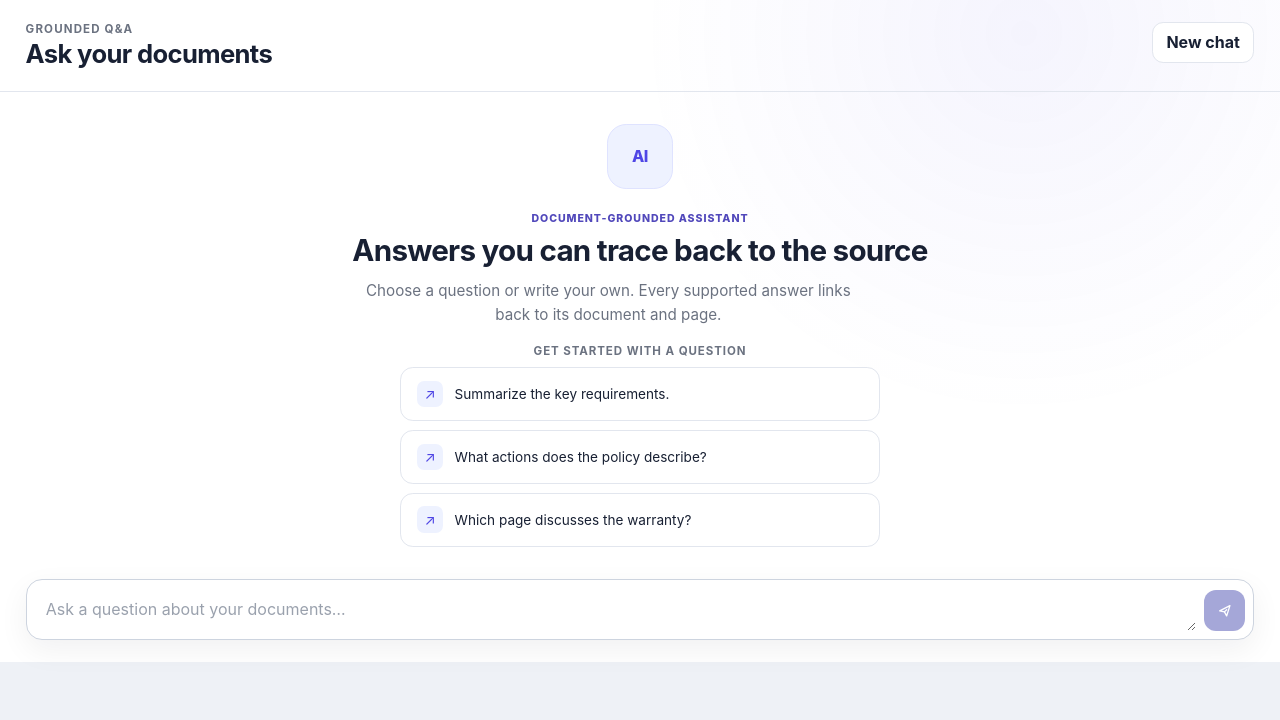
ChatPanel › shows a distinct offline error with a retry path
Type "Can you answer this?" into the text box labelled "Ask a question about your documents" at (615, 610), box [35, 588, 1196, 632]
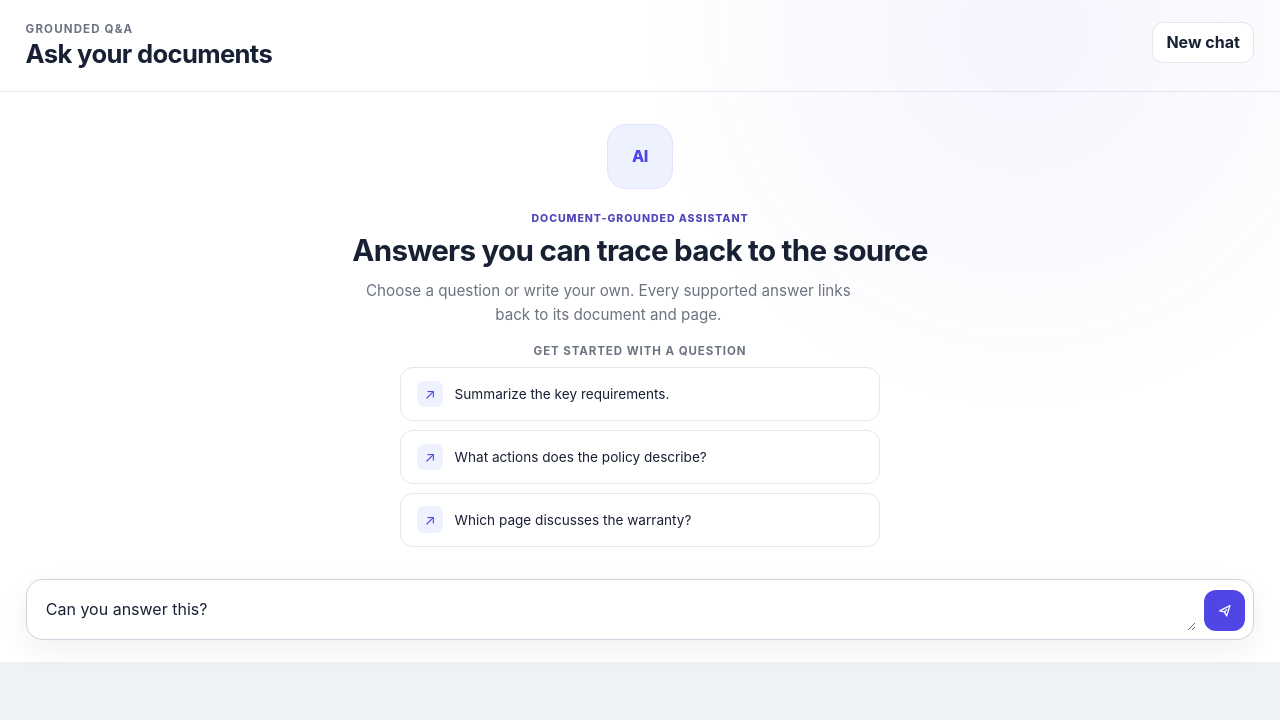
Click the button named "Send question" at (1225, 611), box [1204, 590, 1245, 632]
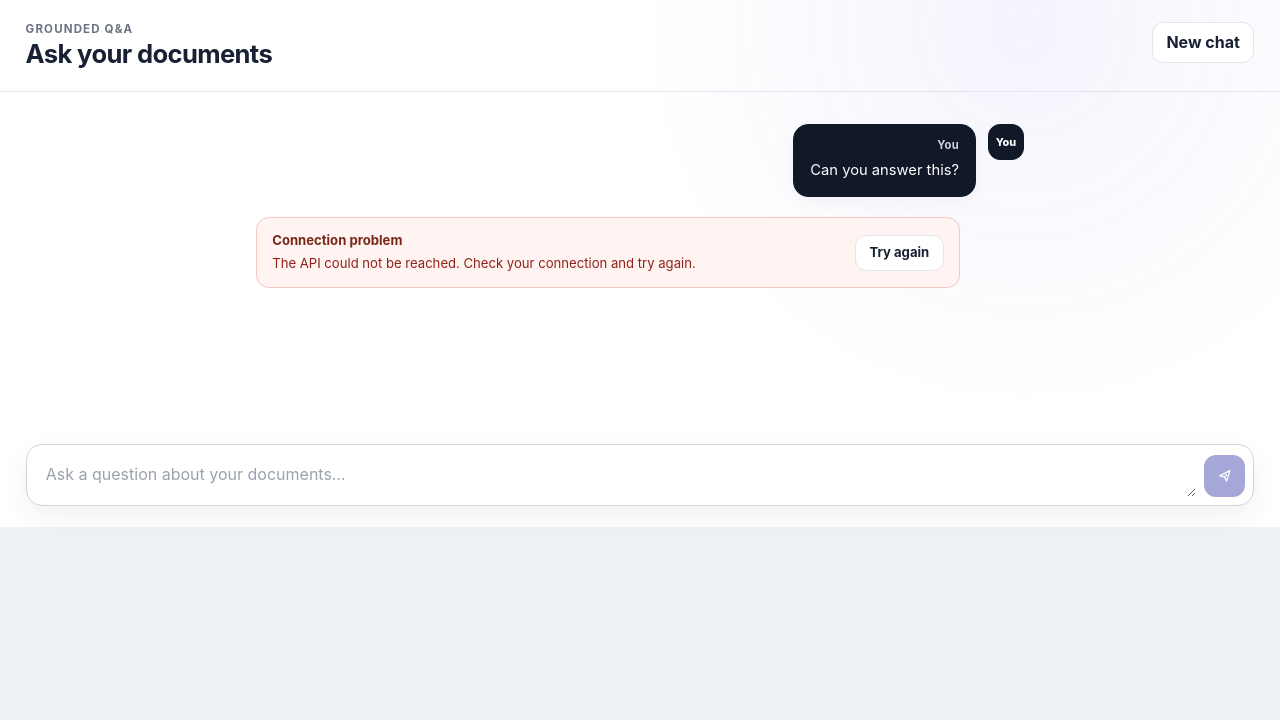
Expected: the message shows "Connection problem", [272, 232, 402, 248]
Expected: the message shows "The API could not be reached. Check your connection and try again.", [272, 255, 696, 271]
Click the button "Try again" at (899, 252), box [855, 234, 944, 270]
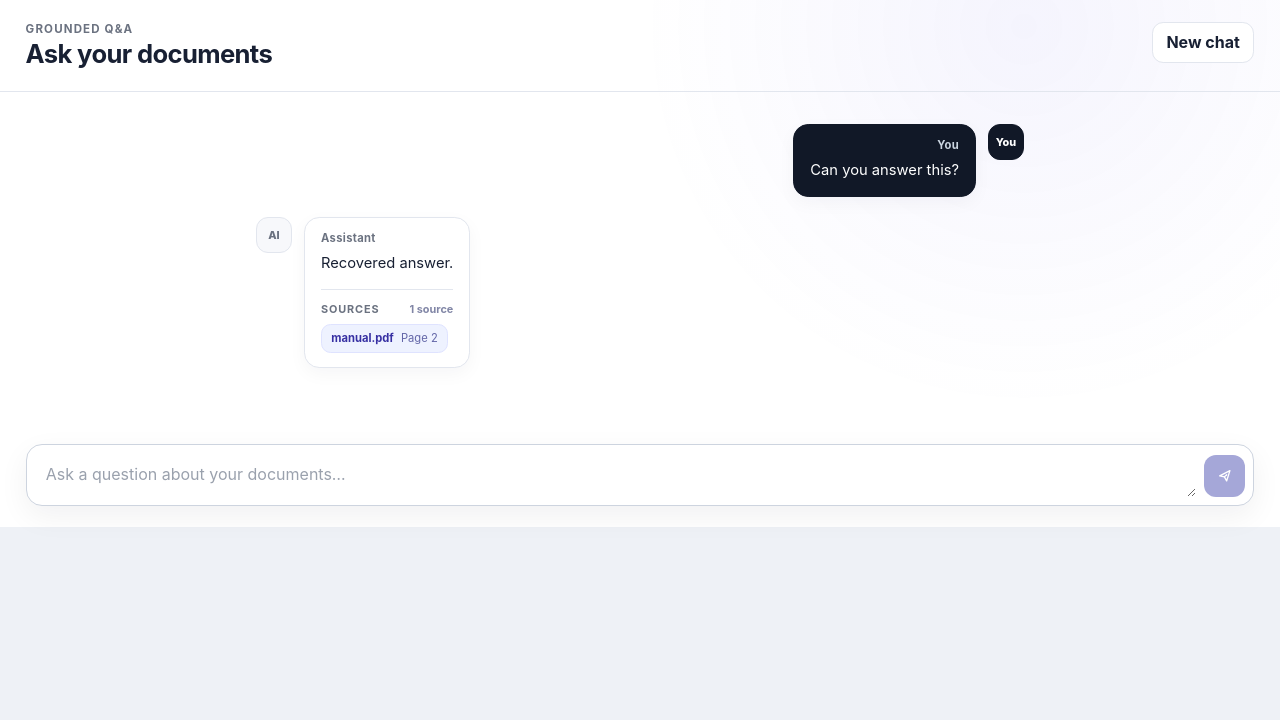
Expected: the text "Recovered answer." is shown, [321, 251, 453, 275]
Expected: the number of elements named "User message" is 1, [793, 124, 1024, 197]
